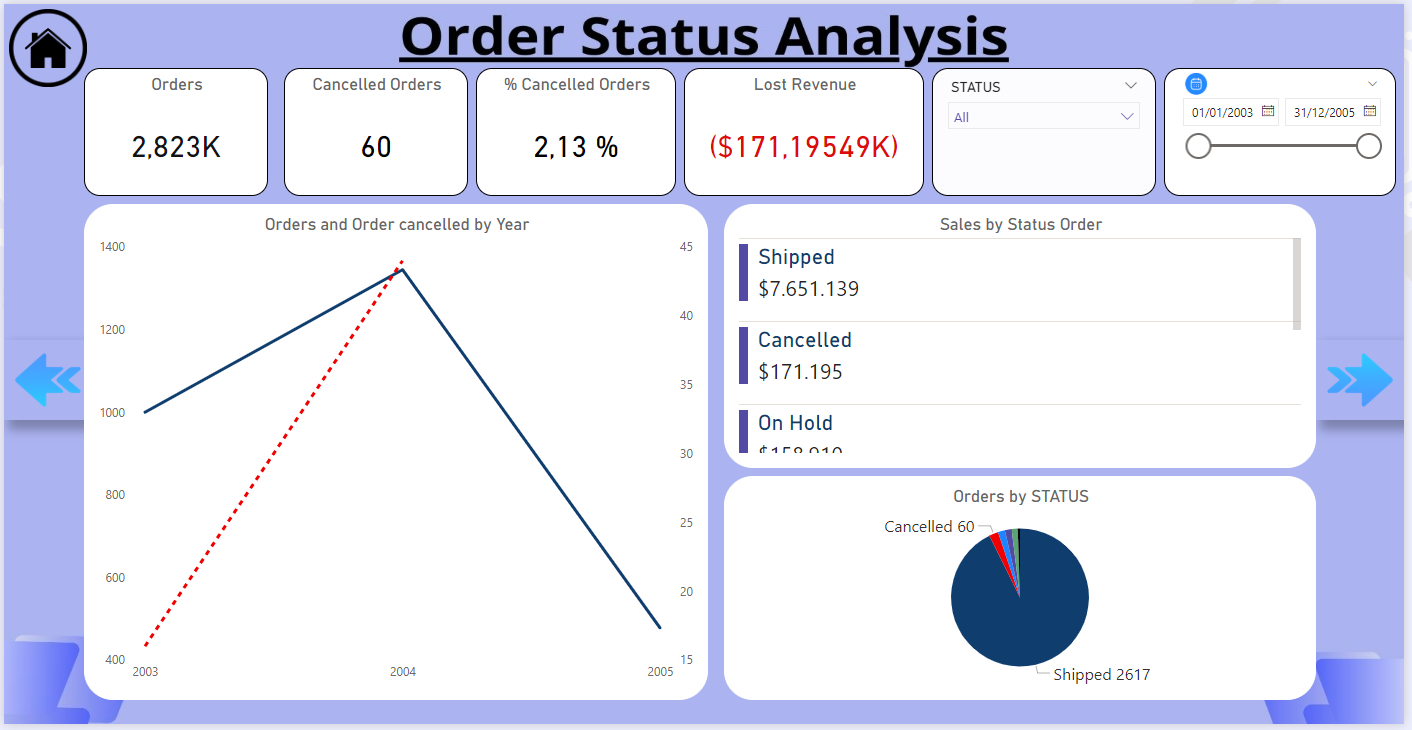

The dashboard page shown, as its layout file describes it:
{"tool":"powerbi","page":{"name":"Order Status Analysis","canvas":[1400,720],"ordinal":5},"visuals":[{"type":"slicer","fields":{"Values":["Dim_Calendar.Date"]},"box":[1160,64,232,128],"z":0},{"type":"image","box":[1168,64,48,32],"z":1000},{"type":"image","box":[1312,336,88,80],"z":2000},{"type":"image","box":[0,336,88,80],"z":3000},{"type":"image","box":[0,0,88,88],"z":4000},{"type":"cardVisual","title":"Orders","fields":{"Data":["Measure.015 $ Total_Orders"]},"box":[80,64,184,128],"z":5000},{"type":"cardVisual","title":"Cancelled Orders","fields":{"Data":["Measure.014 $ Order_cancelled"]},"box":[280,64,184,128],"z":6000},{"type":"cardVisual","title":"% Cancelled Orders","fields":{"Data":["Measure.016 $ Percentage_Cancelled"]},"box":[472,64,200,128],"z":8000},{"type":"cardVisual","title":"Lost Revenue","fields":{"Data":["Measure.017 $ Lost_Revenue"]},"box":[680,64,240,128],"z":9000},{"type":"slicer","fields":{"Values":["Dim_Status.STATUS"]},"box":[928,64,224,128],"z":10000},{"type":"lineChart","fields":{"Y":["Measure.015 $ Total_Orders"],"Y2":["Measure.014 $ Order_cancelled"],"Category":["Dim_Calendar.Year"]},"box":[80,200,624,496],"z":11000},{"type":"pieChart","fields":{"Category":["Dim_Status.STATUS"],"Y":["Measure.015 $ Total_Orders"]},"box":[720,472,592,224],"z":12000},{"type":"multiRowCard","title":"Sales by Status Order","fields":{"Values":["Measure.002 $ Total_Sales","Dim_Status.STATUS"]},"box":[720,200,592,264],"z":13000}]}

Visuals, with their boxes in screenshot pixels (x1, y1, x2, y2), scaled from the page's 1400x720 canvas onto the 1412x730 screenshot:
slicer - Dim_Calendar.Date: [x1=1170, y1=65, x2=1404, y2=195]
image: [x1=1178, y1=65, x2=1226, y2=97]
image: [x1=1323, y1=341, x2=1411, y2=422]
image: [x1=0, y1=341, x2=89, y2=422]
image: [x1=0, y1=0, x2=89, y2=89]
"Orders" cardVisual: [x1=81, y1=65, x2=266, y2=195]
"Cancelled Orders" cardVisual: [x1=282, y1=65, x2=468, y2=195]
"% Cancelled Orders" cardVisual: [x1=476, y1=65, x2=678, y2=195]
"Lost Revenue" cardVisual: [x1=686, y1=65, x2=928, y2=195]
slicer - Dim_Status.STATUS: [x1=936, y1=65, x2=1162, y2=195]
lineChart - Measure.015 $ Total_Orders x Measure.014 $ Order_cancelled: [x1=81, y1=203, x2=710, y2=706]
pieChart - Dim_Status.STATUS x Measure.015 $ Total_Orders: [x1=726, y1=479, x2=1323, y2=706]
"Sales by Status Order" multiRowCard: [x1=726, y1=203, x2=1323, y2=470]
